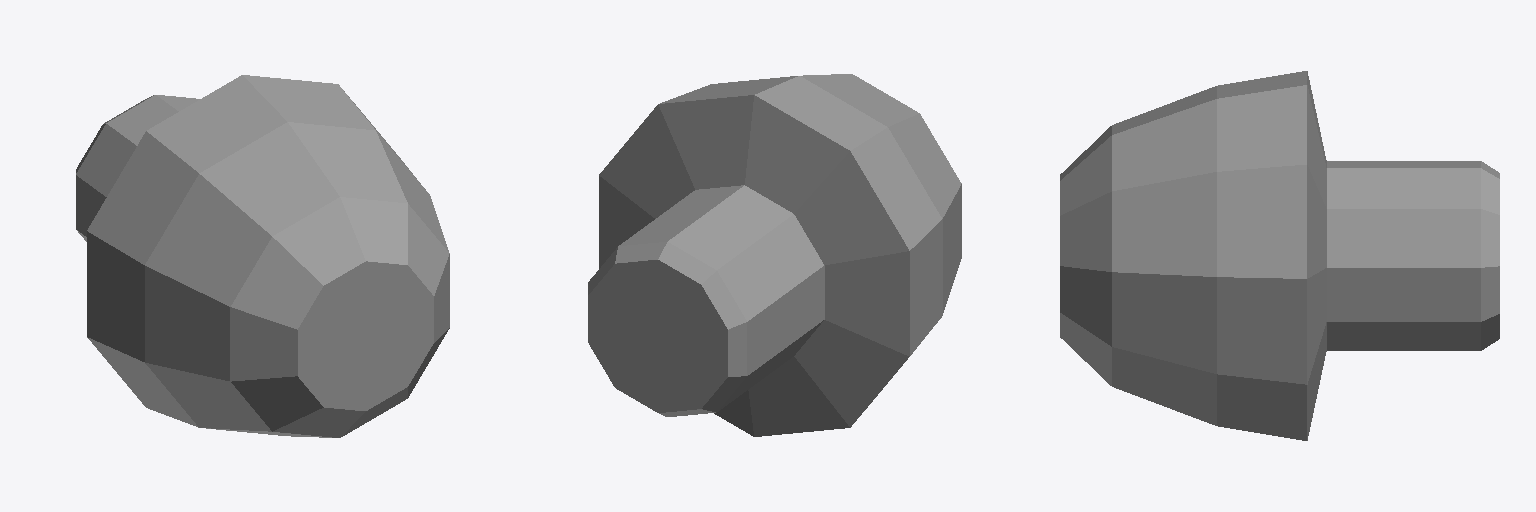
File: mushroom.obj
The picture shows the model from 3 angles: view 1: azimuth 30°, elevation 25°; view 2: azimuth 150°, elevation 25°; view 3: azimuth 270°, elevation 25°; orthographic projection.
Visible parts, largest first — view 1: mushroom_Cylinder; view 2: mushroom_Cylinder; view 3: mushroom_Cylinder.
Boxes of the visible parts, box(x1,y1,x2,y2) form: mushroom_Cylinder: box(76, 75, 449, 437); mushroom_Cylinder: box(588, 74, 961, 436); mushroom_Cylinder: box(1060, 71, 1499, 440).
Bounding box in the file's own units: 4.05 × 4.25 × 4.95.